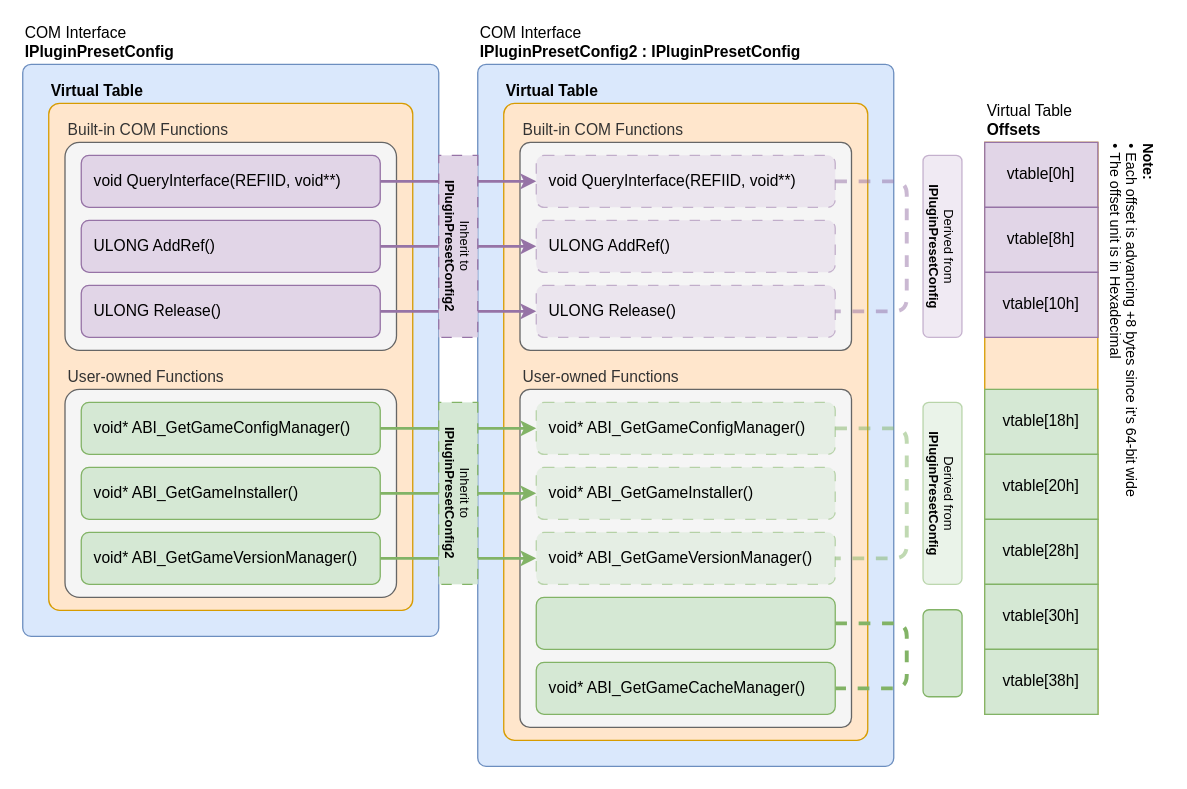
This 1187x789 diagram has some shape labels left out. The centre of each missing label's shape, as x and y in pixels:
"New Functions" goes at pixel 942 653.
"void* ABI_GetGameRepairManager()" goes at pixel 685 622.
